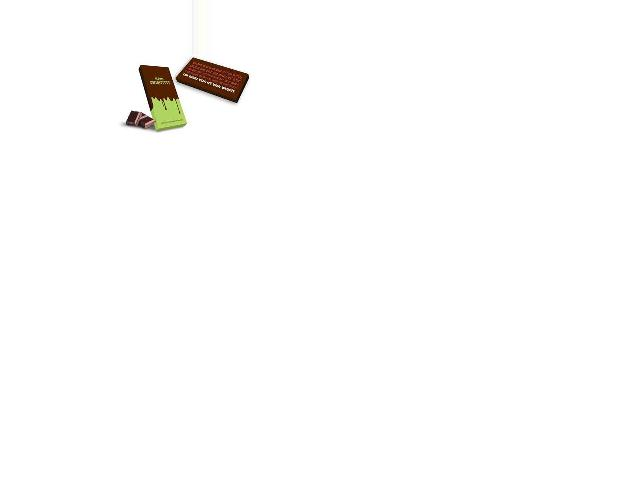chocolate: (143, 63, 183, 133)
